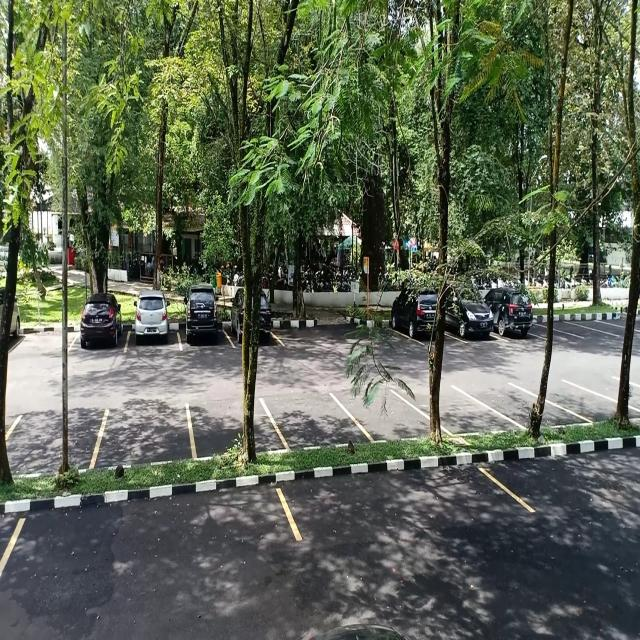empty: (12, 487, 284, 584), (284, 465, 509, 546), (7, 405, 98, 475), (102, 406, 190, 470), (190, 389, 272, 457), (272, 392, 353, 450), (420, 384, 496, 439), (352, 387, 424, 441), (493, 383, 558, 433), (15, 310, 74, 356), (556, 379, 616, 422)
occupied: (128, 300, 180, 353), (75, 307, 129, 355), (181, 296, 225, 351)
